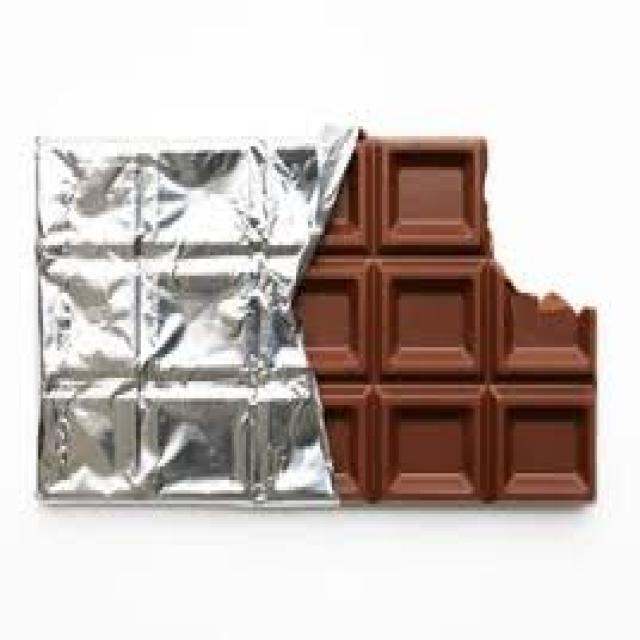Chocolate: (289, 135, 596, 499)
